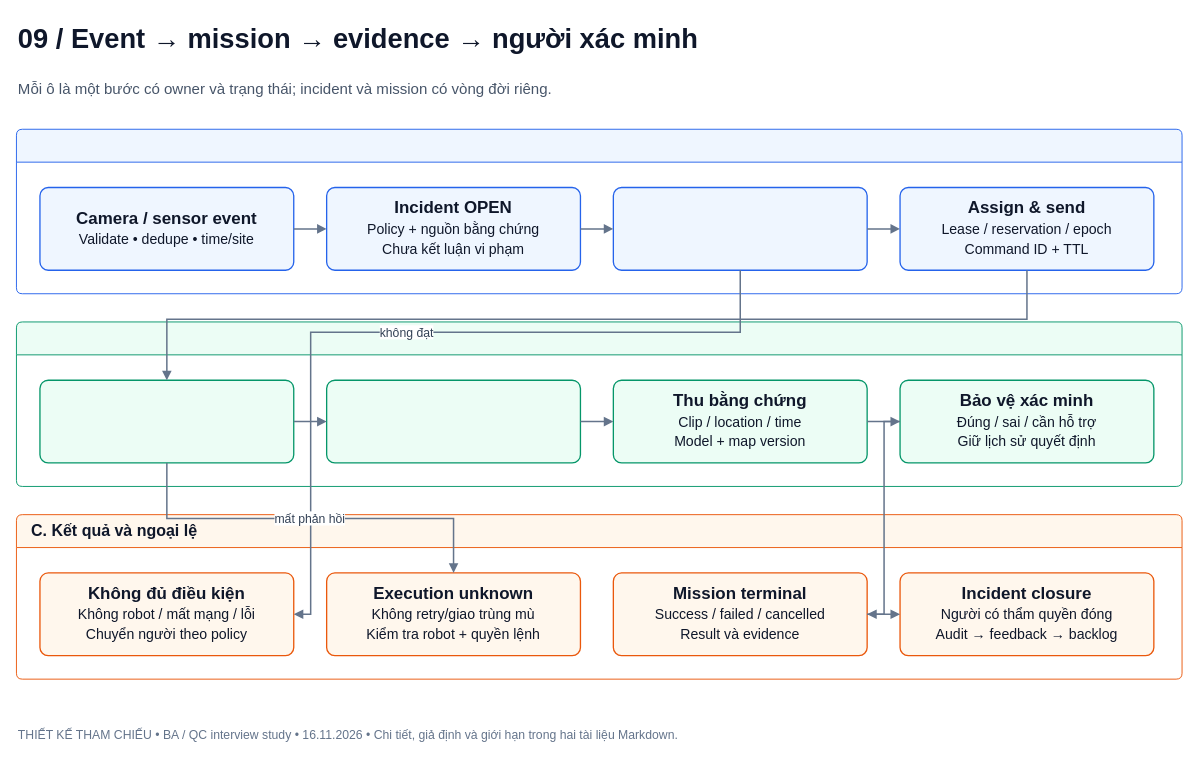
The diagram is 1199 pixels wide and 771 high, and some of its shapes have lost their labels. Each missing label, with the box of its shape:
A. Phát hiện và phân công: (16, 128, 1182, 294)
B. Robot thực hiện nhiệm vụ: (16, 321, 1182, 486)
Fleet eligibility ODD / capability / health Energy / route / permission: (612, 186, 867, 270)
Navigate / observe ROS Action + local safety Goal / feedback / cancel: (326, 379, 581, 463)
Robot recheck / ACK Chấp nhận ≠ hoàn tất Reject khi điều kiện thay đổi: (39, 379, 294, 463)
